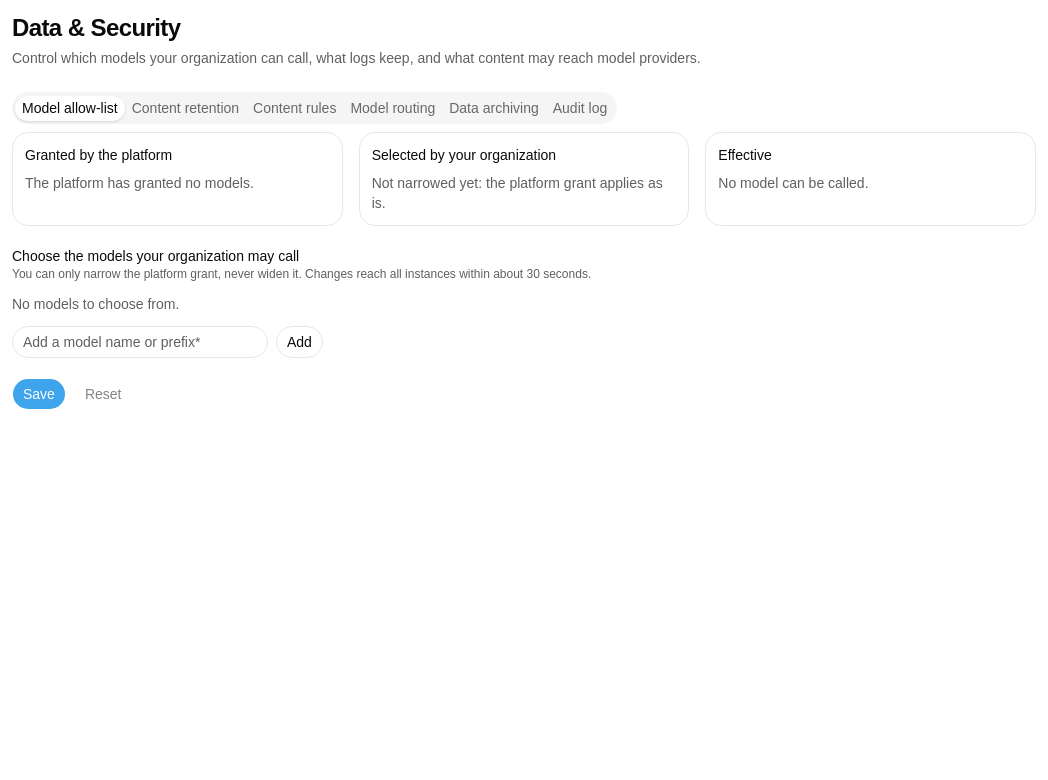
Test: fallback editor › loads a stored fallback policy in order
The width and height of the screenshot is (1048, 780).
Click the tab "Model routing" at {"x": 393, "y": 108}, box [343,96,442,120]
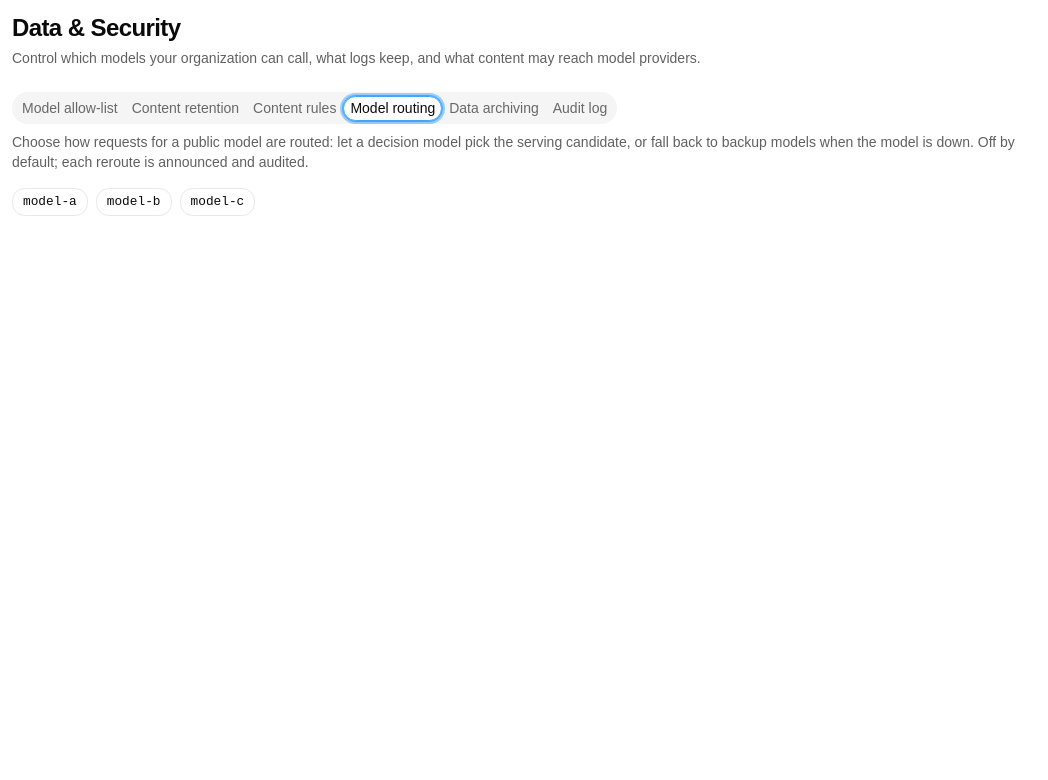
Click the button "model-a" at {"x": 50, "y": 202}, box [12,188,88,216]
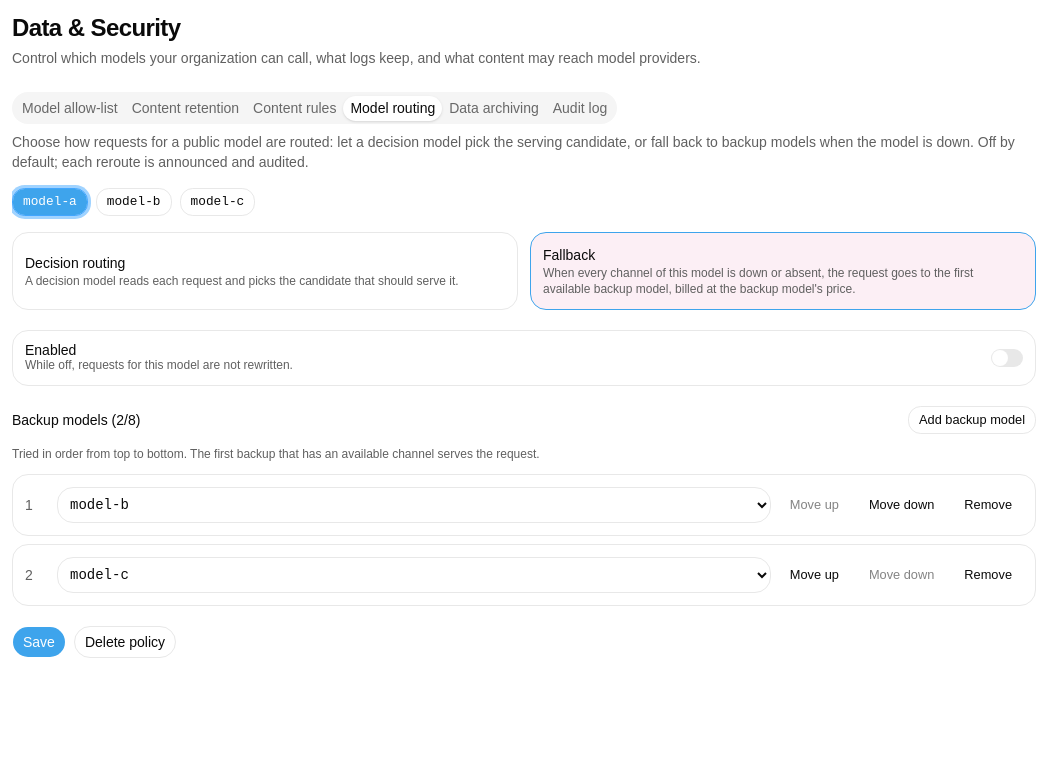
Check: the element with test id "routing-editor" is shown, box [12,232,1036,658]
Check: the radio button labelled "Fallback" is checked, box [530,232,1036,310]
